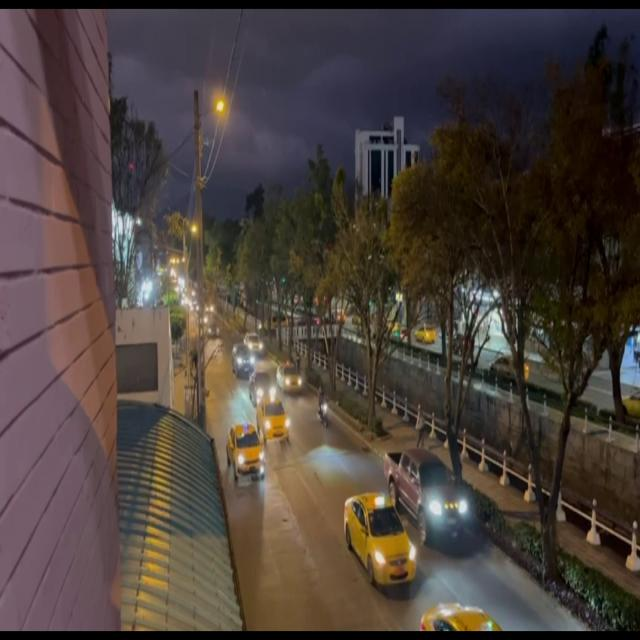CMT: (384, 446, 466, 536)
MOTORCYCLE: (317, 381, 330, 432)
SED: (344, 490, 416, 590), (226, 421, 265, 482), (255, 393, 290, 445)
